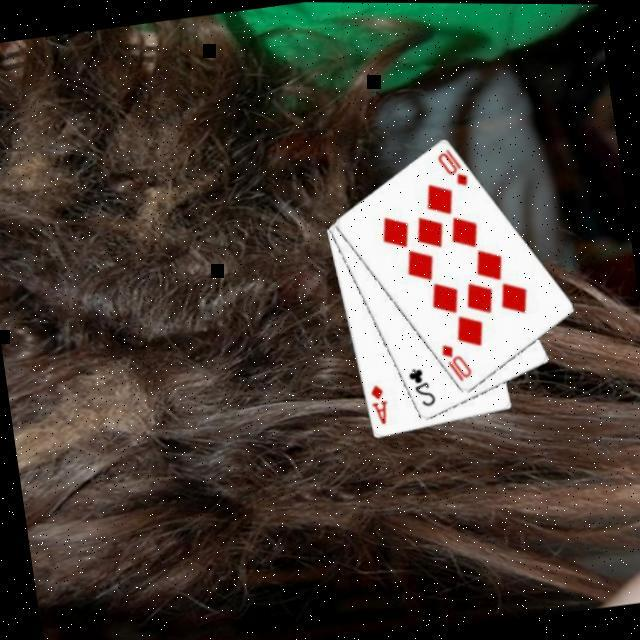10D: (434, 338, 474, 387), (430, 144, 470, 193)
2C: (403, 364, 437, 412)
AD: (364, 382, 392, 429)
